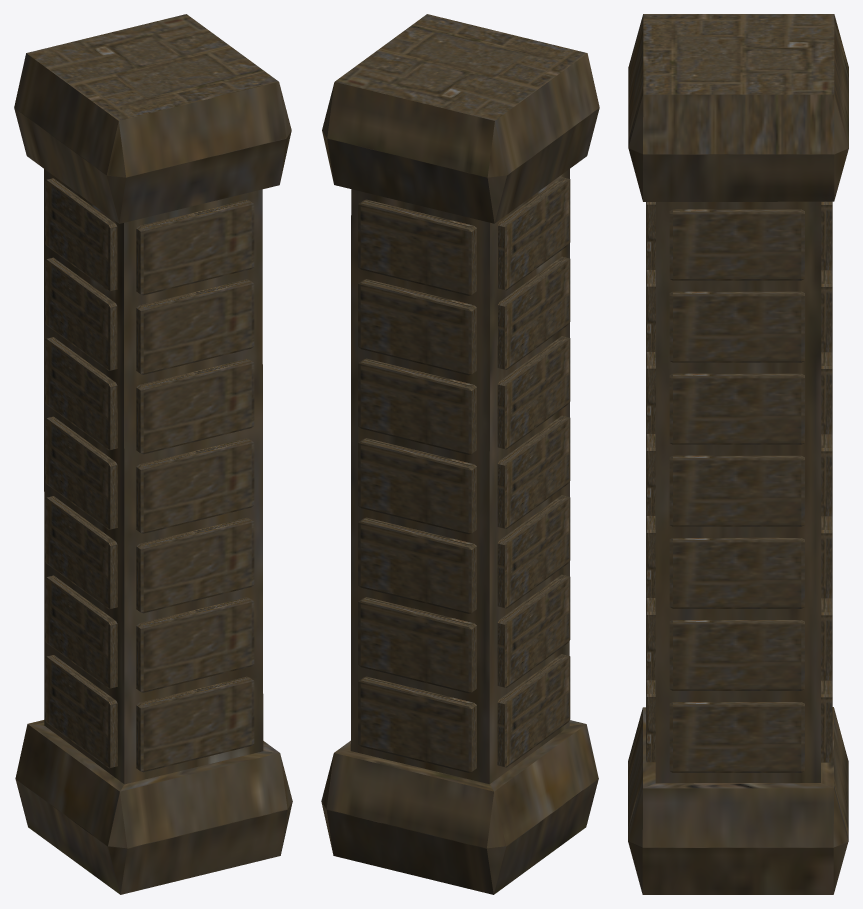
File: Alchemy Assets Browser.fbx_Pillar.fbx
3 views of the same model, side by side, from view 1: azimuth 30°, elevation 25°; view 2: azimuth 150°, elevation 25°; view 3: azimuth 270°, elevation 25° (orthographic). The views are drawn at different scales.
Visible parts, largest first — view 1: Pillar; view 2: Pillar; view 3: Pillar.
Boxes of the visible parts, box(x1,y1,x2,y2) form: Pillar: box(14, 14, 292, 894); Pillar: box(321, 14, 599, 894); Pillar: box(628, 14, 848, 894).
Bounding box in the file's own units: 50.26 × 200 × 50.09.
